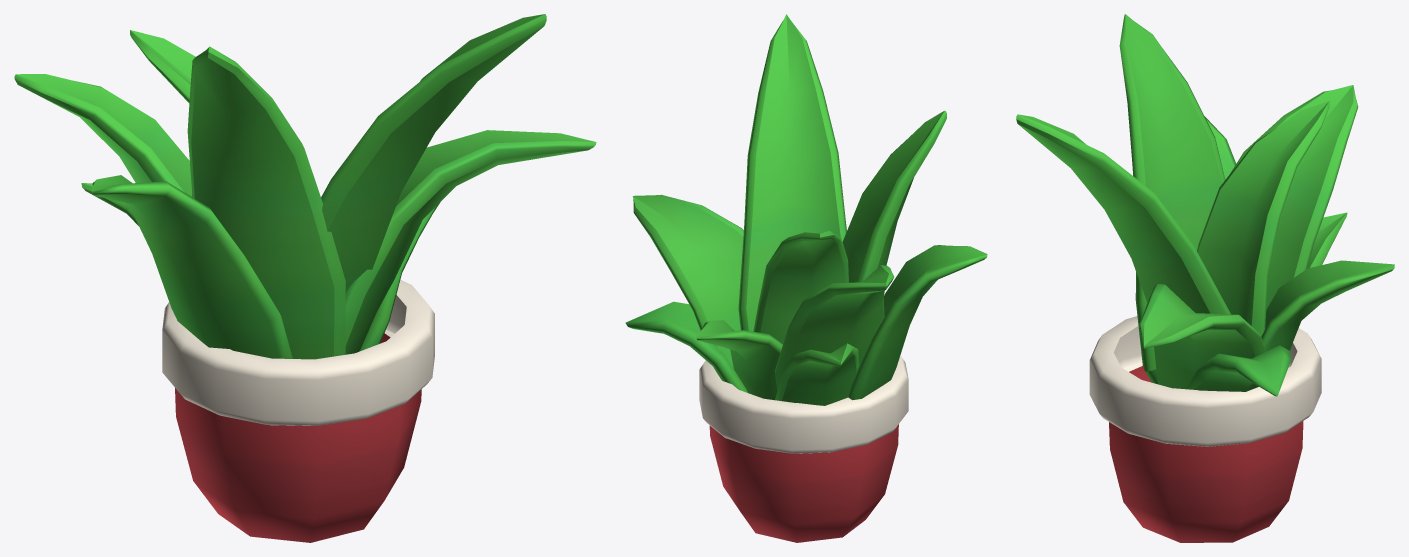
The model's file is Pot_02.fbx.
The picture shows the model from 3 angles, left to right: view 1: azimuth 30°, elevation 25°; view 2: azimuth 150°, elevation 25°; view 3: azimuth 270°, elevation 25°; orthographic projection. The views are drawn at different scales.
Visible parts, largest first — view 1: Pot_02; view 2: Pot_02; view 3: Pot_02.
Part boxes in pixels (box(x1,y1,x2,y2)): Pot_02: box(14, 14, 596, 542); Pot_02: box(625, 14, 987, 542); Pot_02: box(1016, 14, 1394, 542).
Bounding box in the file's own units: 2.92 × 3.19 × 2.35.
